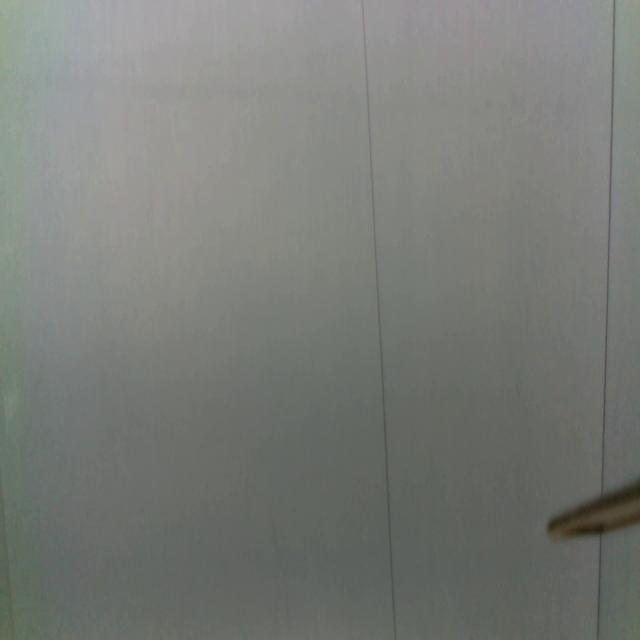crease: (361, 0, 398, 640), (600, 0, 615, 488), (0, 476, 14, 640), (596, 534, 604, 640)
